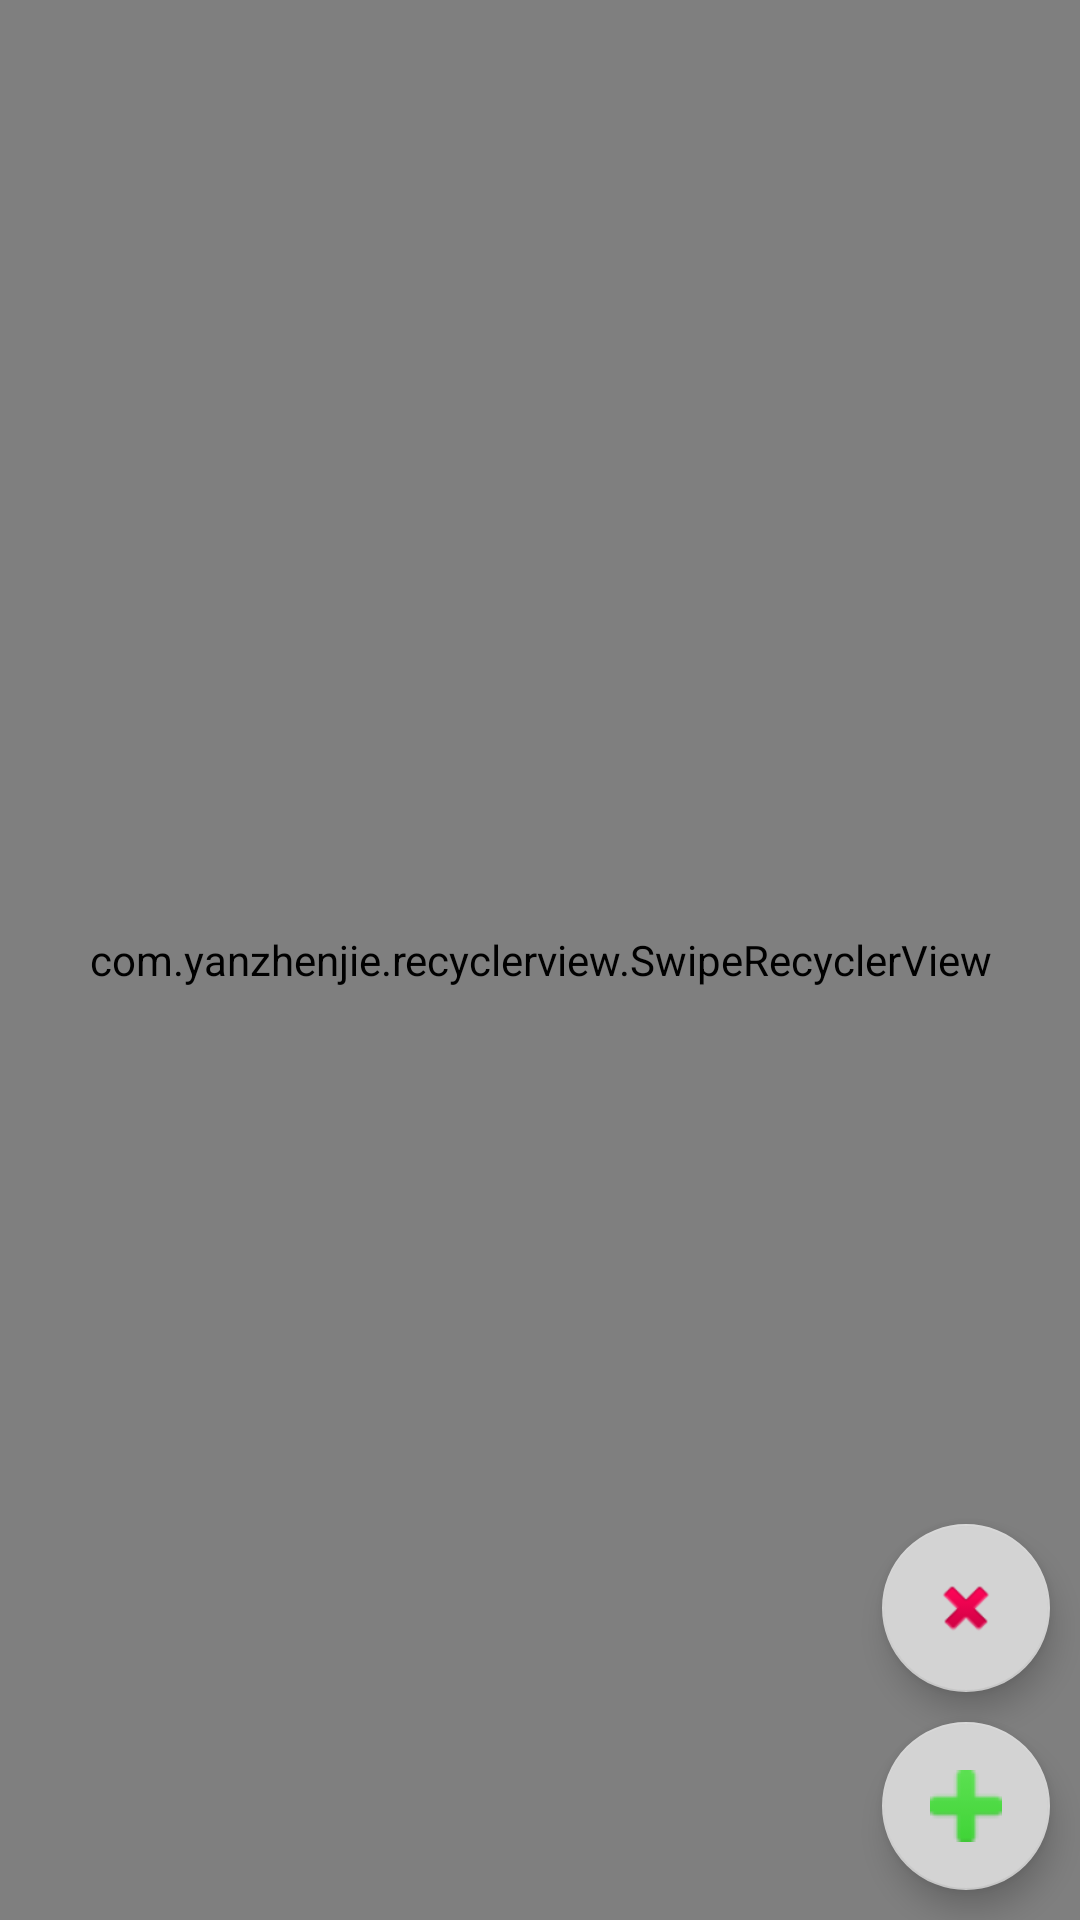

Locate icon controls on the screen. Image size 1080×1920, boxes as [x1, y1, x2, y2].
add: [882, 1722, 1050, 1890]
delete: [882, 1524, 1050, 1692]
